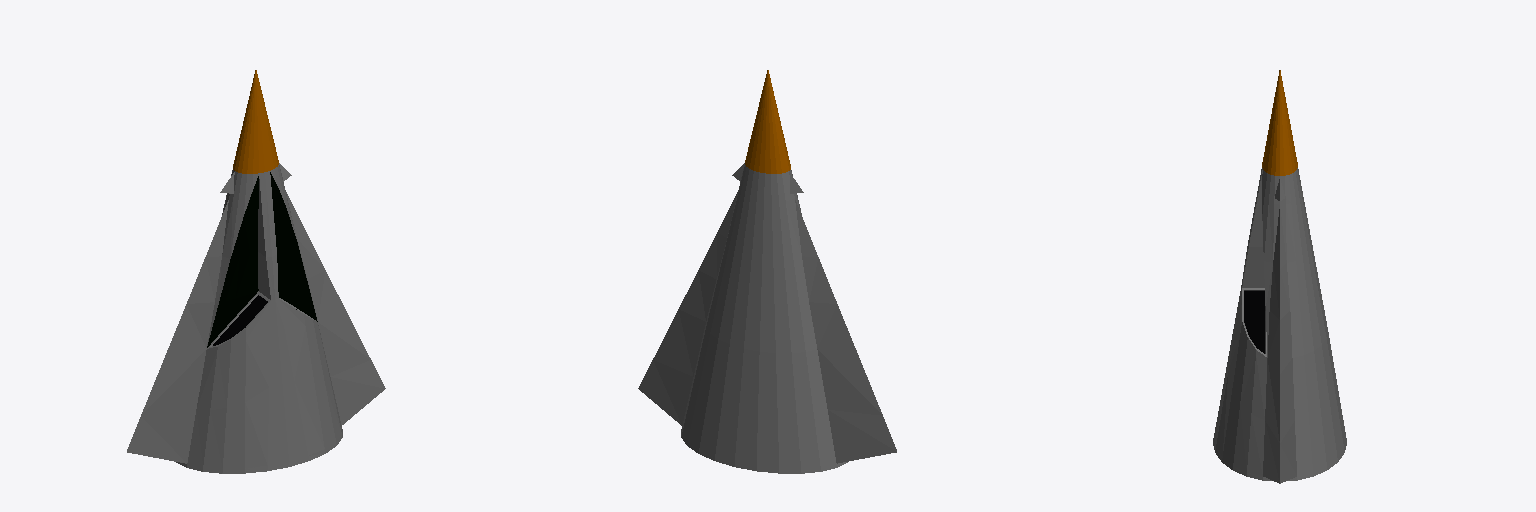
Rendered from icarus.obj.
3 renders of one model, left to right at view 1: azimuth 30°, elevation 25°; view 2: azimuth 150°, elevation 25°; view 3: azimuth 270°, elevation 25°, orthographic.
Parts seen in each view (by area): view 1: Fuselage SubD Wings, Fuselage Cap, Cockpit Windows; view 2: Fuselage SubD Wings, Fuselage Cap; view 3: Fuselage SubD Wings, Fuselage Cap, Cockpit Windows.
Boxes of the visible parts, x1,y1,x2,y2 form: Fuselage SubD Wings: [127, 163, 385, 473]; Fuselage Cap: [233, 70, 278, 173]; Cockpit Windows: [213, 295, 296, 345]; Fuselage SubD Wings: [638, 163, 896, 473]; Fuselage Cap: [745, 70, 790, 173]; Fuselage SubD Wings: [1213, 168, 1346, 483]; Fuselage Cap: [1262, 70, 1297, 175]; Cockpit Windows: [1244, 291, 1264, 353].
Size of the model in its own units: 9.36 by 12.85 by 4.2.